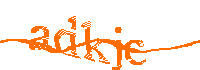c: (125, 38, 147, 66)
d: (53, 14, 80, 60)
j: (112, 26, 123, 70)
k: (82, 20, 110, 65)
m: (29, 23, 50, 52)
